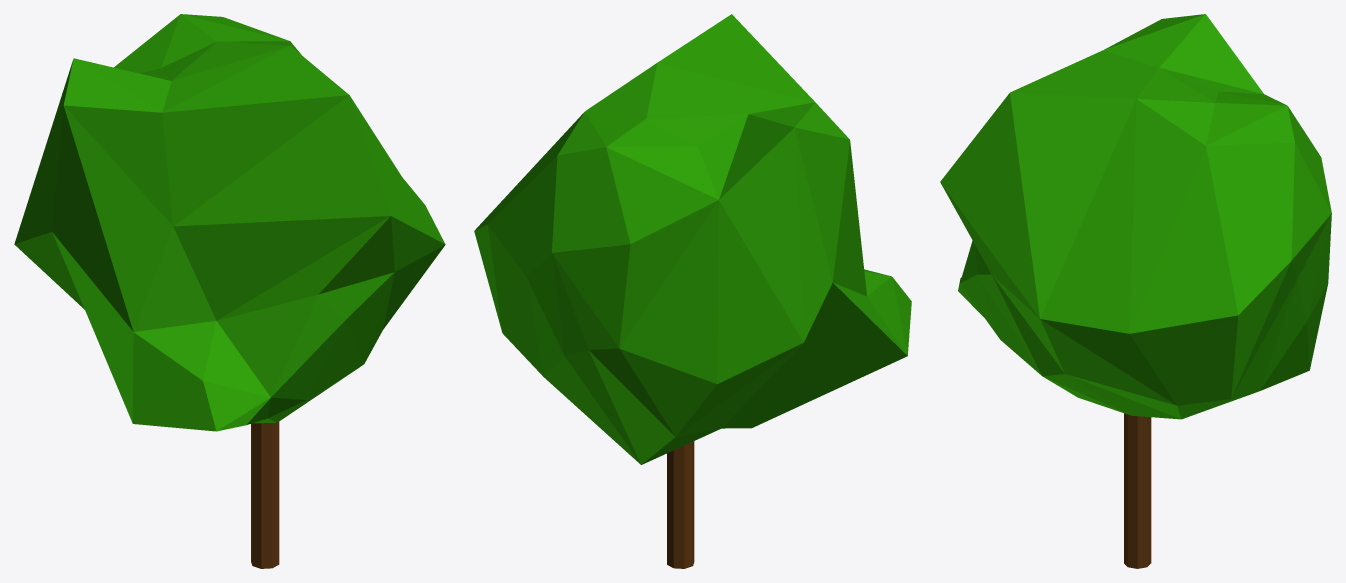
File: bush.glb
3 renders of one model, left to right at view 1: azimuth 30°, elevation 25°; view 2: azimuth 150°, elevation 25°; view 3: azimuth 270°, elevation 25°, orthographic. The views are drawn at different scales.
Visible parts, largest first — view 1: Bush_1; view 2: Bush_1; view 3: Bush_1.
Boxes of the visible parts, x1,y1,x2,y2 form: Bush_1: (14, 14, 445, 568); Bush_1: (474, 14, 911, 568); Bush_1: (940, 14, 1331, 568).
Size of the model in its own units: 1.48 by 2.09 by 1.55.
Materials: 1 (1 with a texture image).
